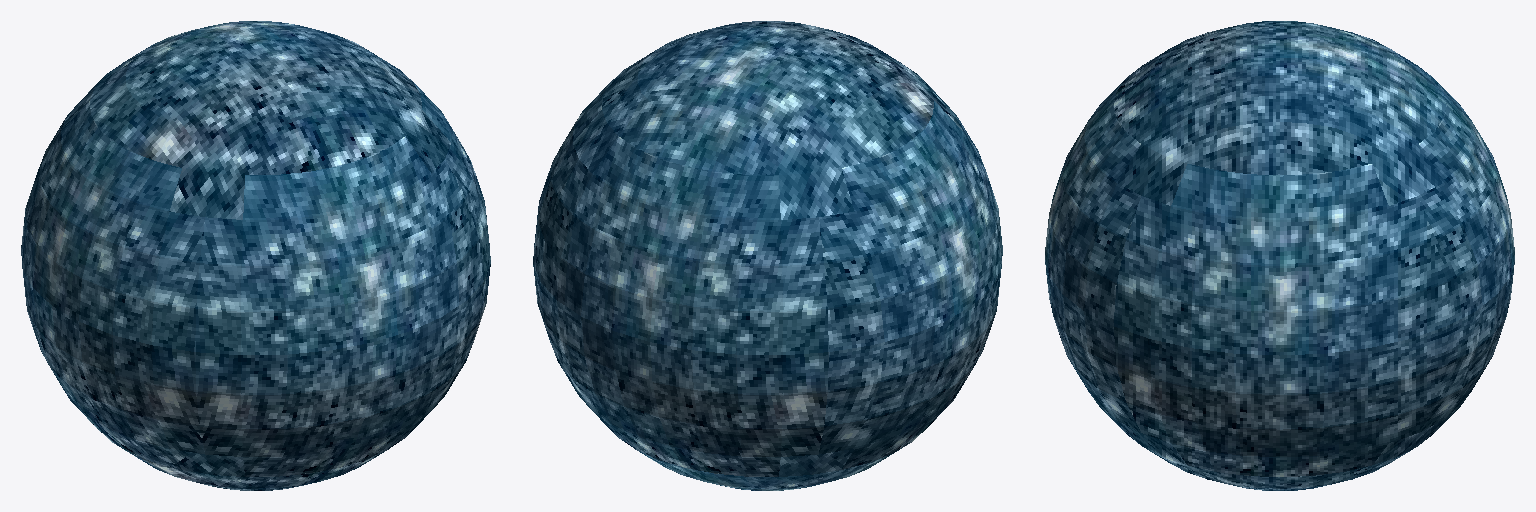
The picture shows the model from 3 angles: view 1: azimuth 30°, elevation 25°; view 2: azimuth 150°, elevation 25°; view 3: azimuth 270°, elevation 25°; orthographic projection.
Parts seen in each view (by area): view 1: stone3_particle; view 2: stone3_particle; view 3: stone3_particle.
Boxes of the visible parts, <box> form: stone3_particle: <box>21,21,490,490</box>; stone3_particle: <box>533,21,1002,490</box>; stone3_particle: <box>1045,21,1514,490</box>.
Size of the model in its own units: 2 by 2 by 2.
Materials: 1 (1 with a texture image).